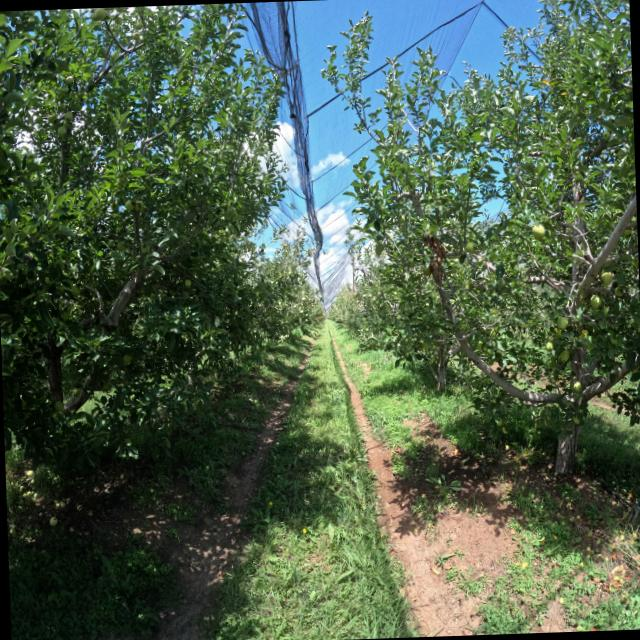-FireBlight-: (425, 236, 449, 285)
